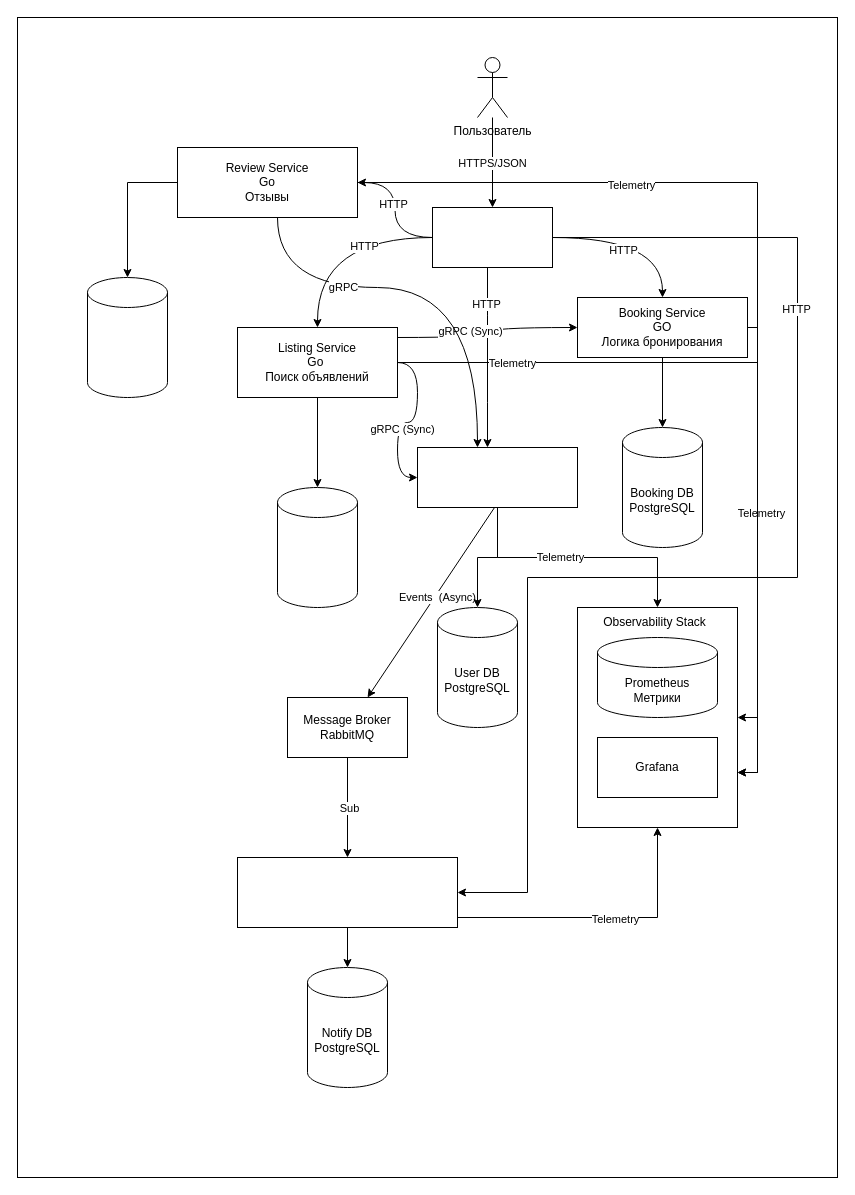
Image size: 855x1195. Some labels were removed from this diagram. Here are the shapes that lost their labels. From the top down, the centre of each, then its label:
point (492, 237): API Gateway Nginx
point (127, 337): Review DB PostgreSQL
point (497, 477): User Service Go/Node.js Профили
point (317, 547): Listing DB PostgreSQL
point (347, 892): Notify Service Go Уведомения
